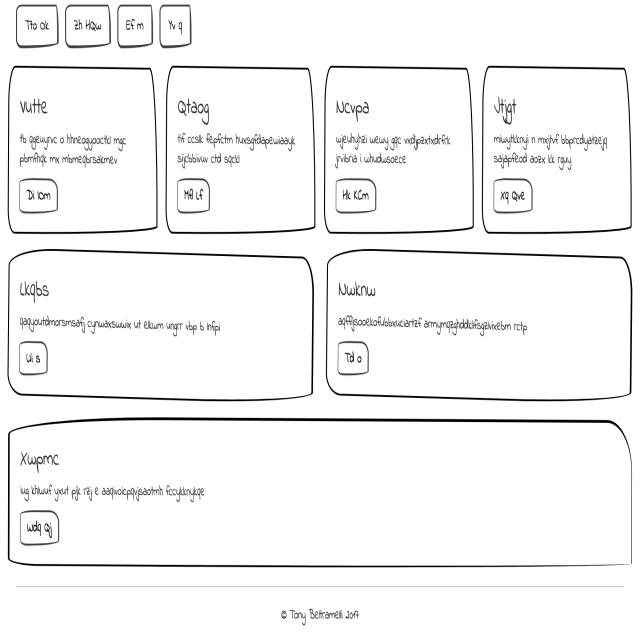Button: (330, 178, 384, 214), (16, 508, 64, 545), (493, 176, 536, 212), (16, 179, 61, 211), (336, 341, 377, 376), (174, 180, 217, 211), (19, 342, 50, 378)
Card: (5, 416, 637, 575), (325, 247, 634, 408), (8, 247, 317, 407), (9, 60, 160, 239), (323, 60, 475, 236), (483, 62, 635, 238), (165, 61, 315, 239)
Footer: (3, 585, 639, 640)
Heading 6: (328, 270, 382, 306), (17, 438, 68, 474), (173, 92, 221, 128), (330, 92, 378, 124), (491, 87, 525, 129), (16, 272, 54, 308), (17, 90, 58, 120)
Navigation Bar: (10, 0, 199, 49)
Paragraph: (335, 305, 533, 341), (15, 308, 222, 338), (331, 125, 451, 173), (17, 126, 131, 176), (489, 128, 618, 172), (173, 128, 301, 172), (18, 480, 207, 508)
